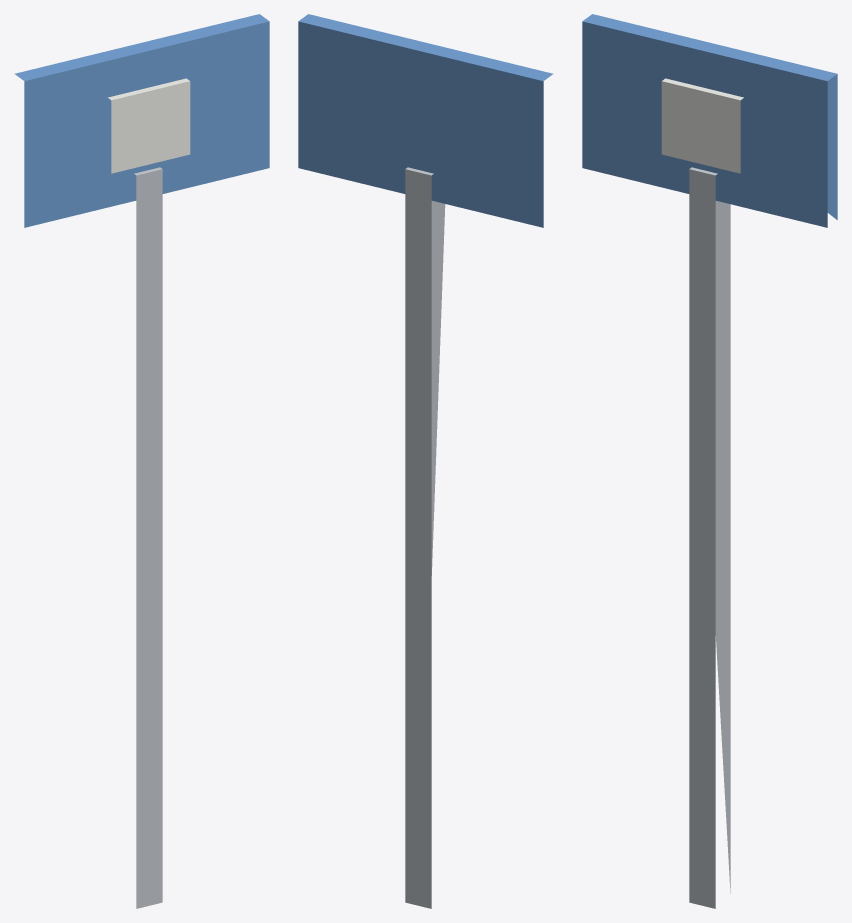
Rendered from assembly-sign.glb.
3 views of the same model, side by side, from view 1: azimuth 30°, elevation 25°; view 2: azimuth 150°, elevation 25°; view 3: azimuth 330°, elevation 25° (orthographic).
Size of the model in its own units: 0.56 by 1.86 by 0.065.
